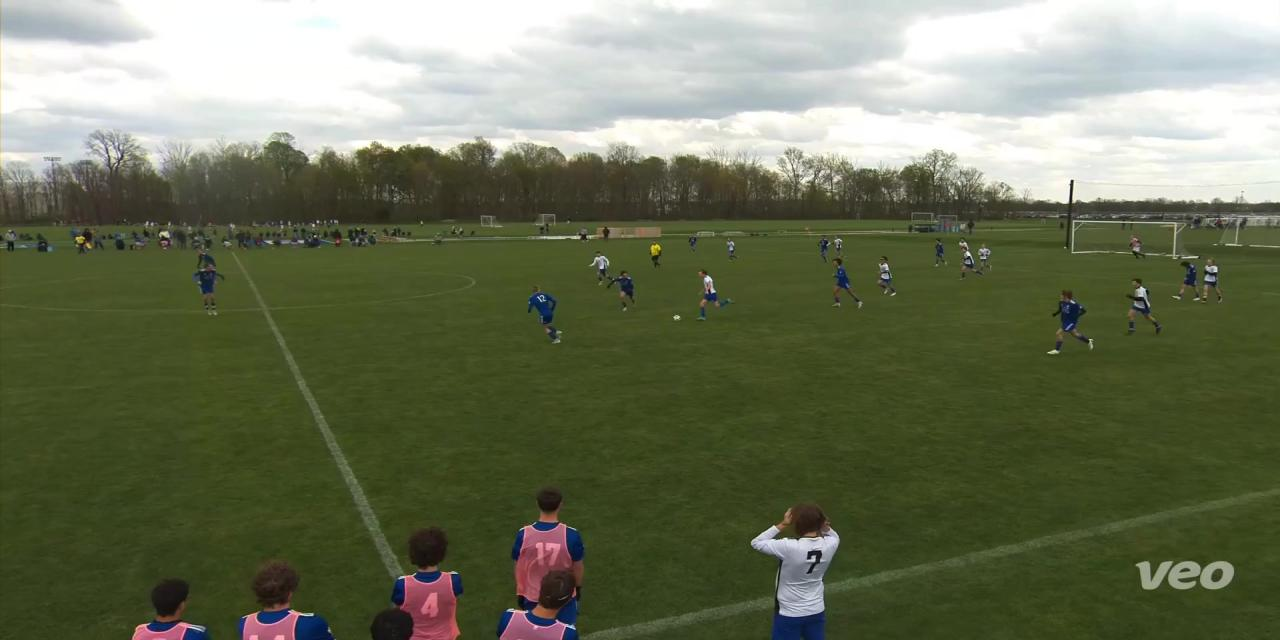goal: (1058, 213, 1217, 265)
sports ball: (661, 302, 690, 331)
